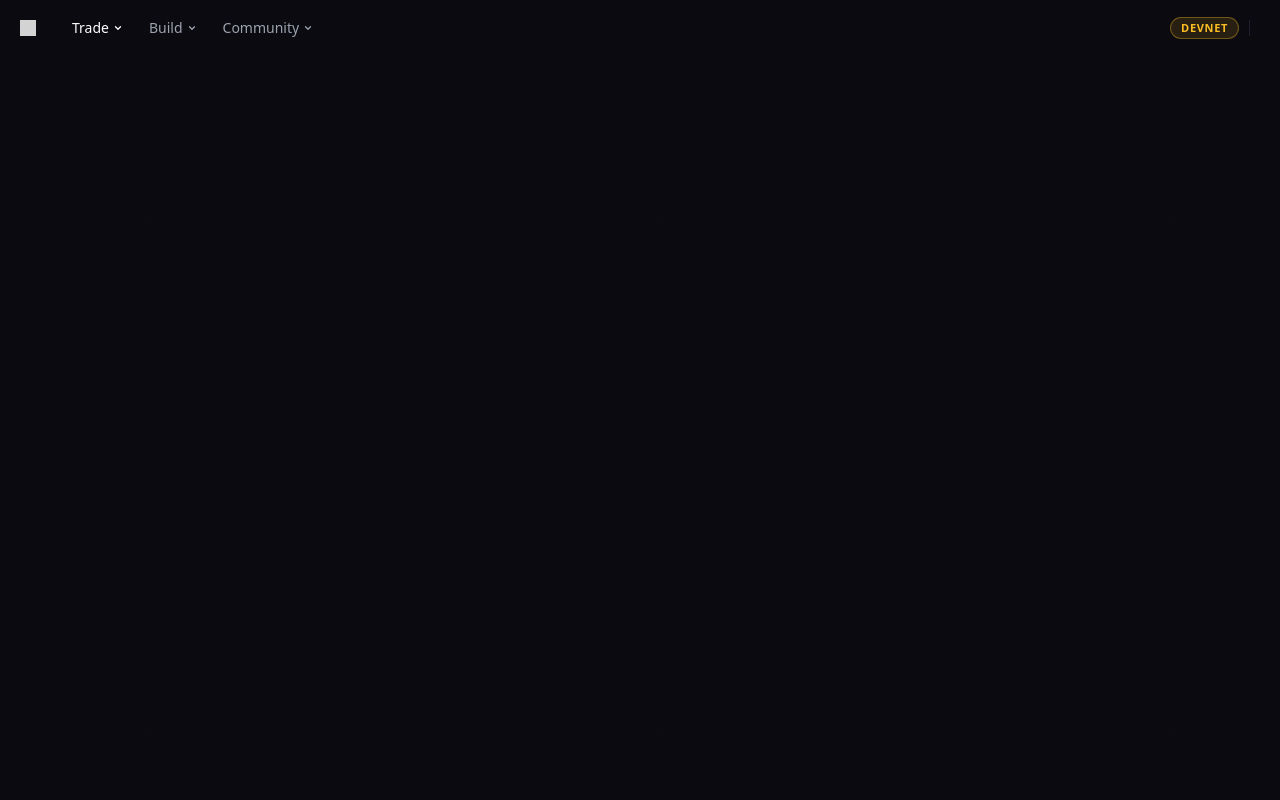
it: Header › dismisses Trade dropdown on outside click
Click the button "Trade" at {"x": 98, "y": 28}, box [60,12,135,44]
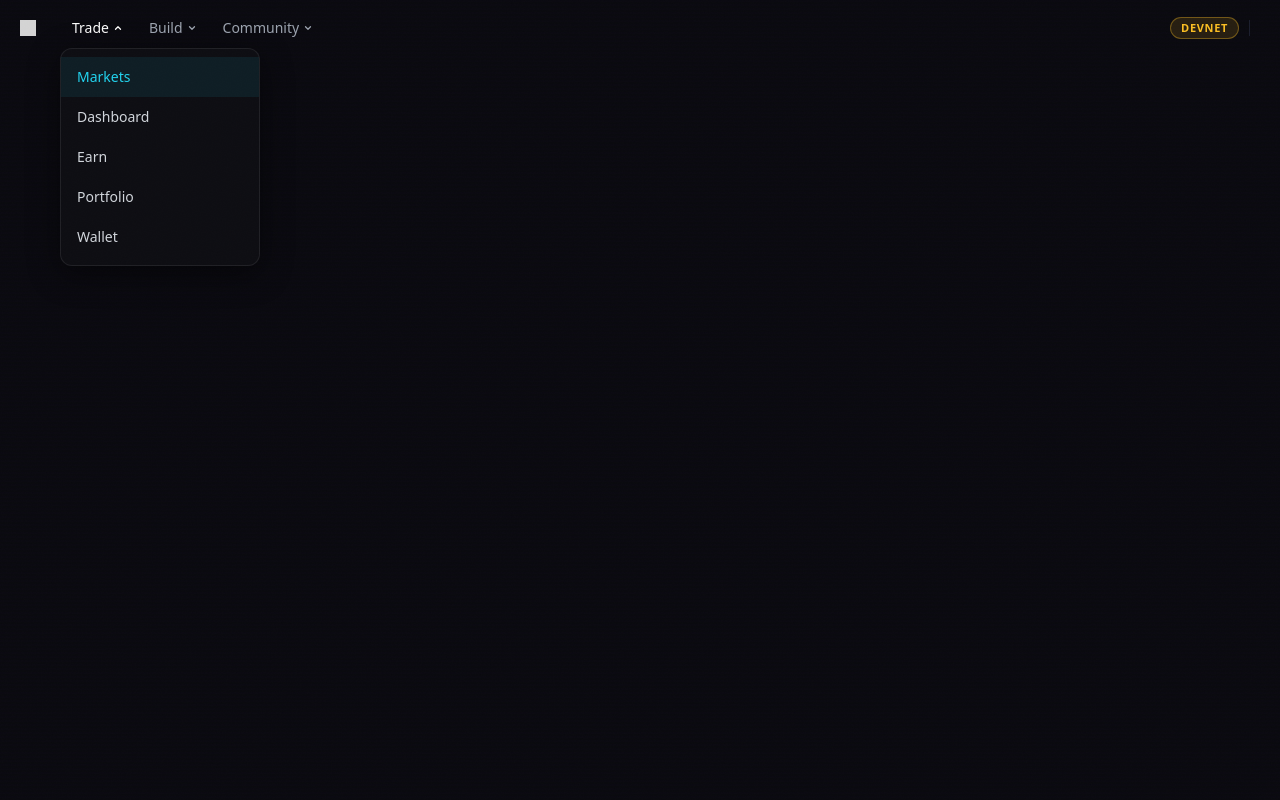
Now the menu item "Wallet" is shown, box [77,227,118,246]
// Click outside the dropdown
Press the mouse on the element that starts with "Trade" at {"x": 640, "y": 400}, box [0,0,1279,799]
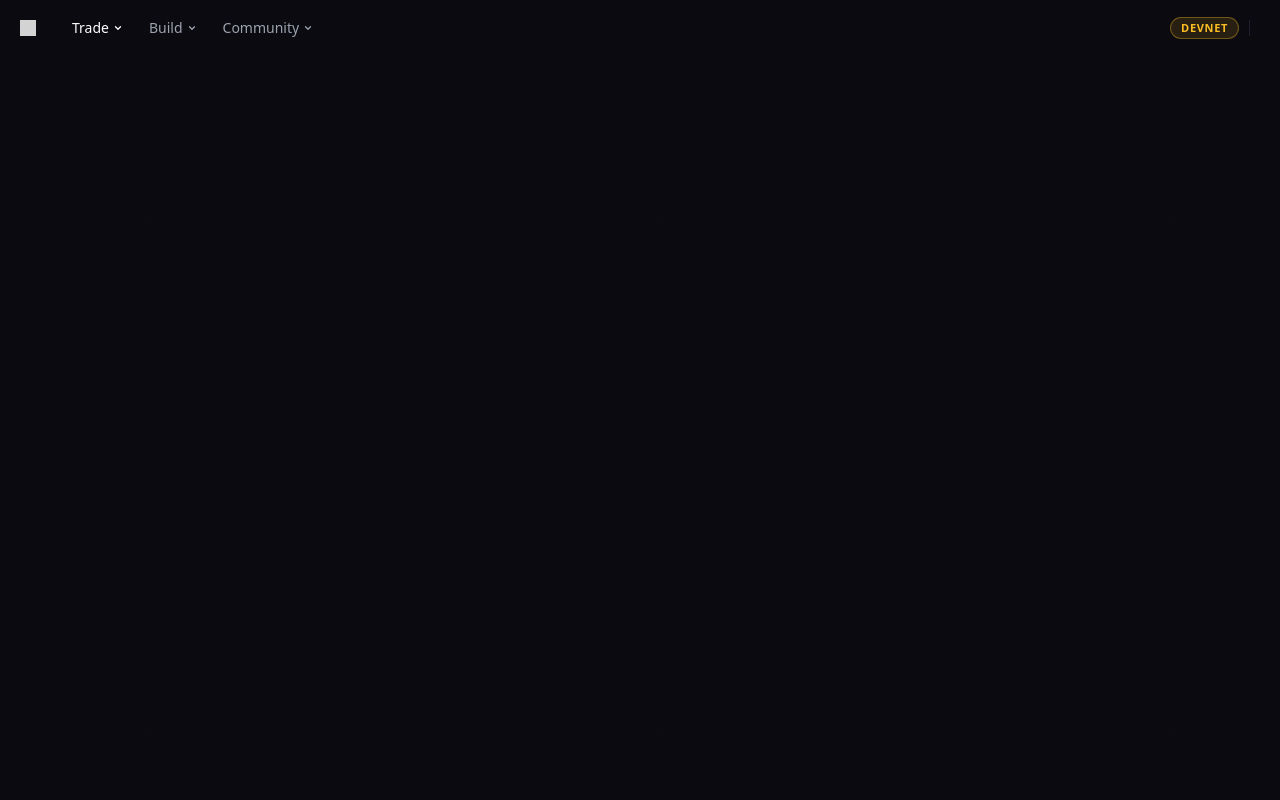
Now the menu item "Wallet" is gone
